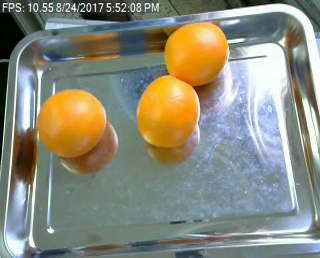Orange: (36, 88, 108, 155), (136, 75, 201, 148), (163, 21, 229, 86)
